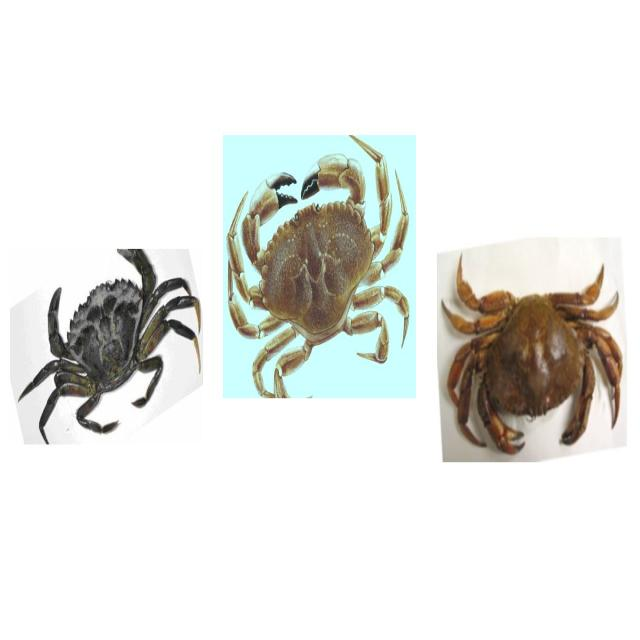egc: (9, 248, 204, 444)
jonah_crab: (223, 138, 417, 406)
rock_crab: (434, 253, 624, 448)
